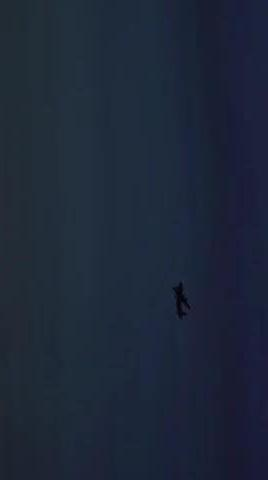Plane: (162, 264, 200, 336)
